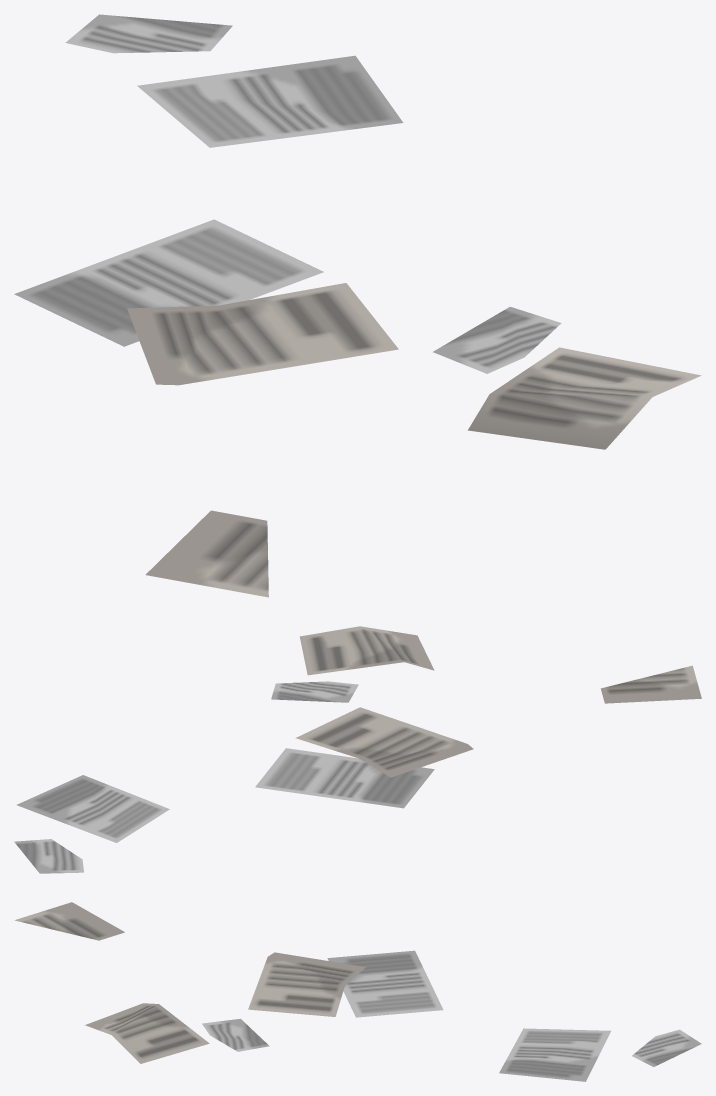
The model's file is SM_Prop_Papers_02.fbx.
3 renders of one model, top to bottom at view 1: azimuth 30°, elevation 25°; view 2: azimuth 150°, elevation 25°; view 3: azimuth 270°, elevation 25°, orthographic. The views are drawn at different scales.
Parts seen in each view (by area): view 1: SM_Prop_Papers_02; view 2: SM_Prop_Papers_02; view 3: SM_Prop_Papers_02.
Part boxes in pixels (left/top/right/bottom): SM_Prop_Papers_02: left=14, top=14, right=701, bottom=597; SM_Prop_Papers_02: left=14, top=626, right=701, bottom=873; SM_Prop_Papers_02: left=14, top=902, right=701, bottom=1081.
Bounding box in the file's own units: 130 × 3.26 × 209.
